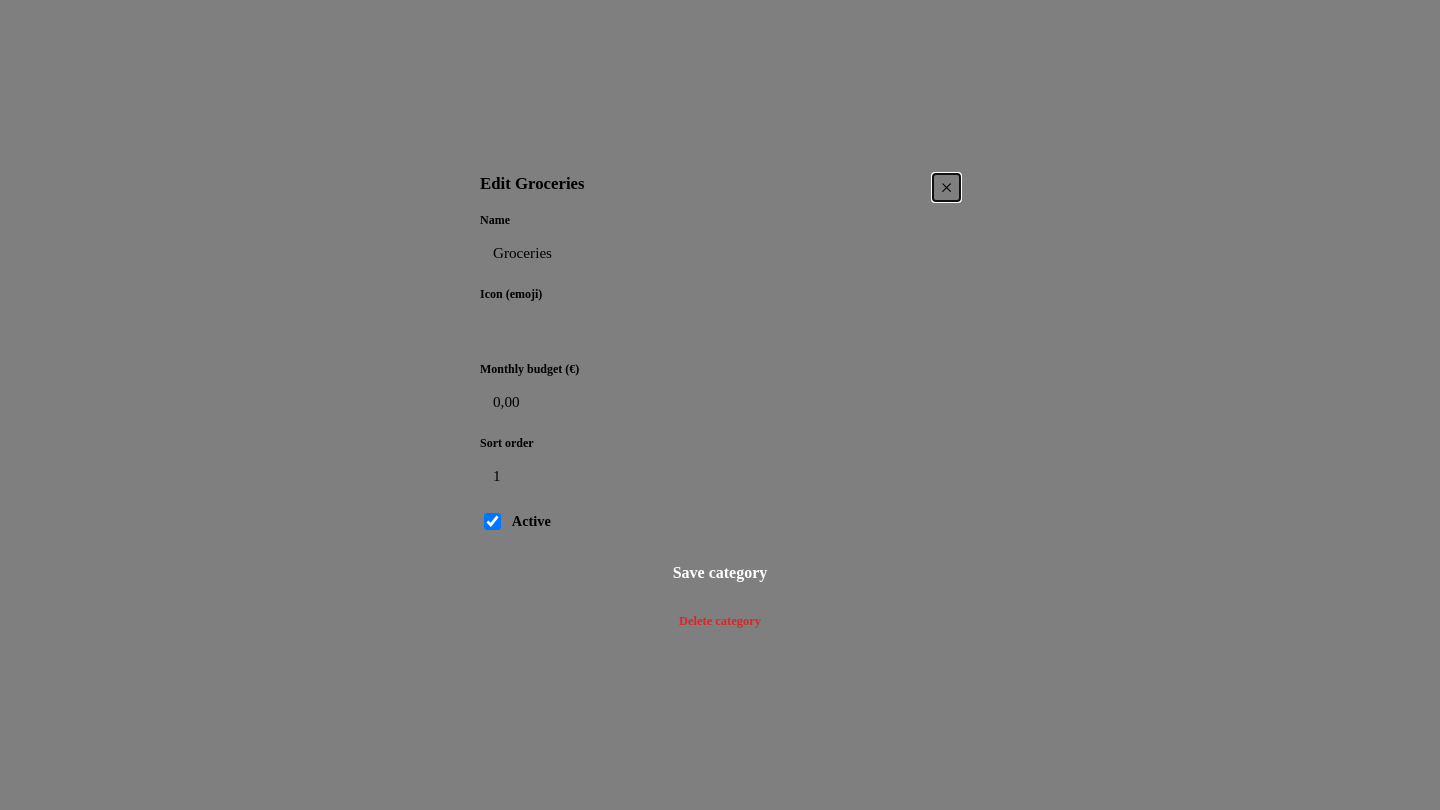
Test: ConfigModal delete control › escalates to the reassign sheet when a plain delete 409s (stale client usage count)
The width and height of the screenshot is (1440, 810).
# Client-side usageCount says 0 (unused), so this opens the plain-delete confirm...
Click the button "Delete category".
click(720, 621)  # box [480, 608, 960, 634]
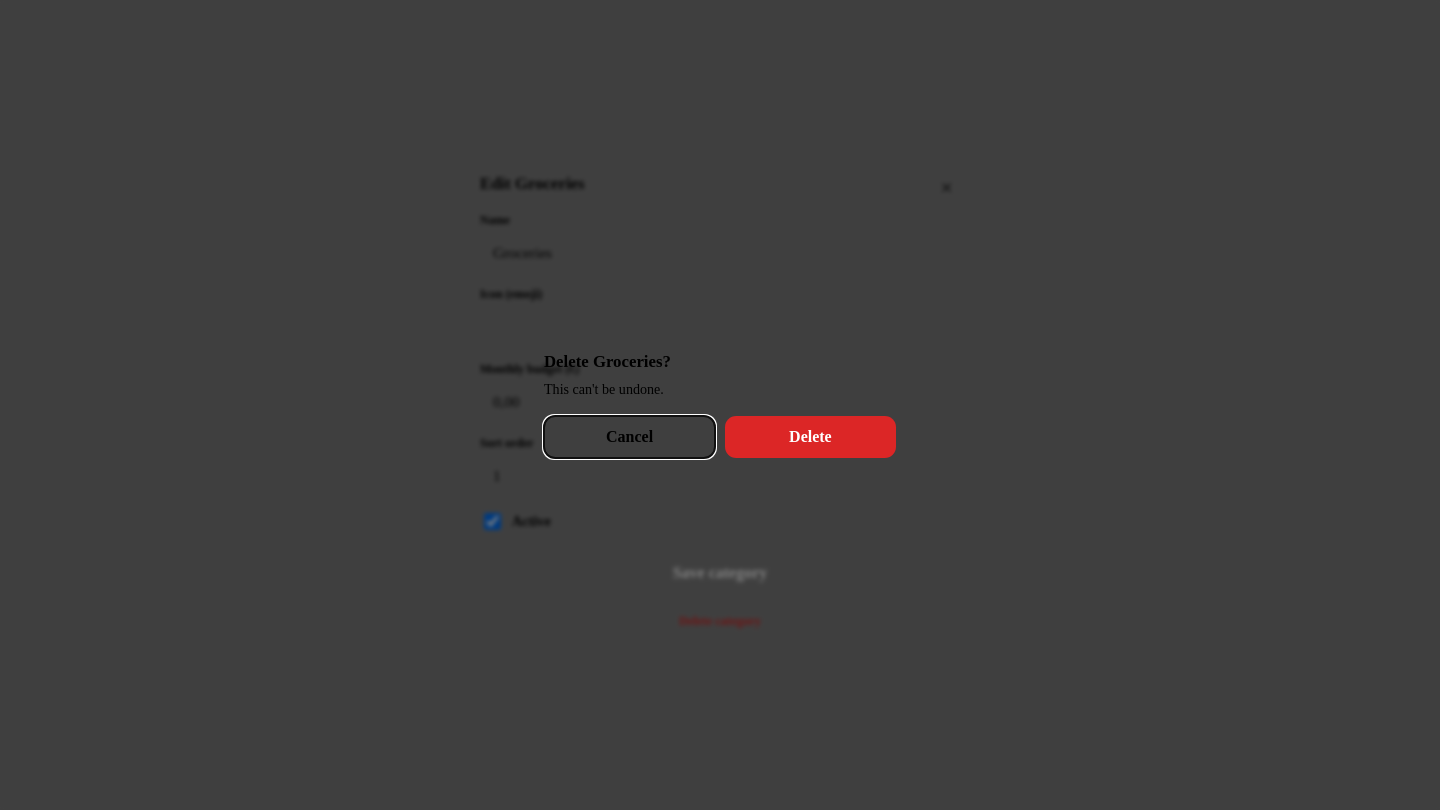
Expected: the text "This can't be undone." is shown, [544, 381, 664, 397]
Click the button "Delete".
click(810, 437)  # box [725, 416, 896, 458]
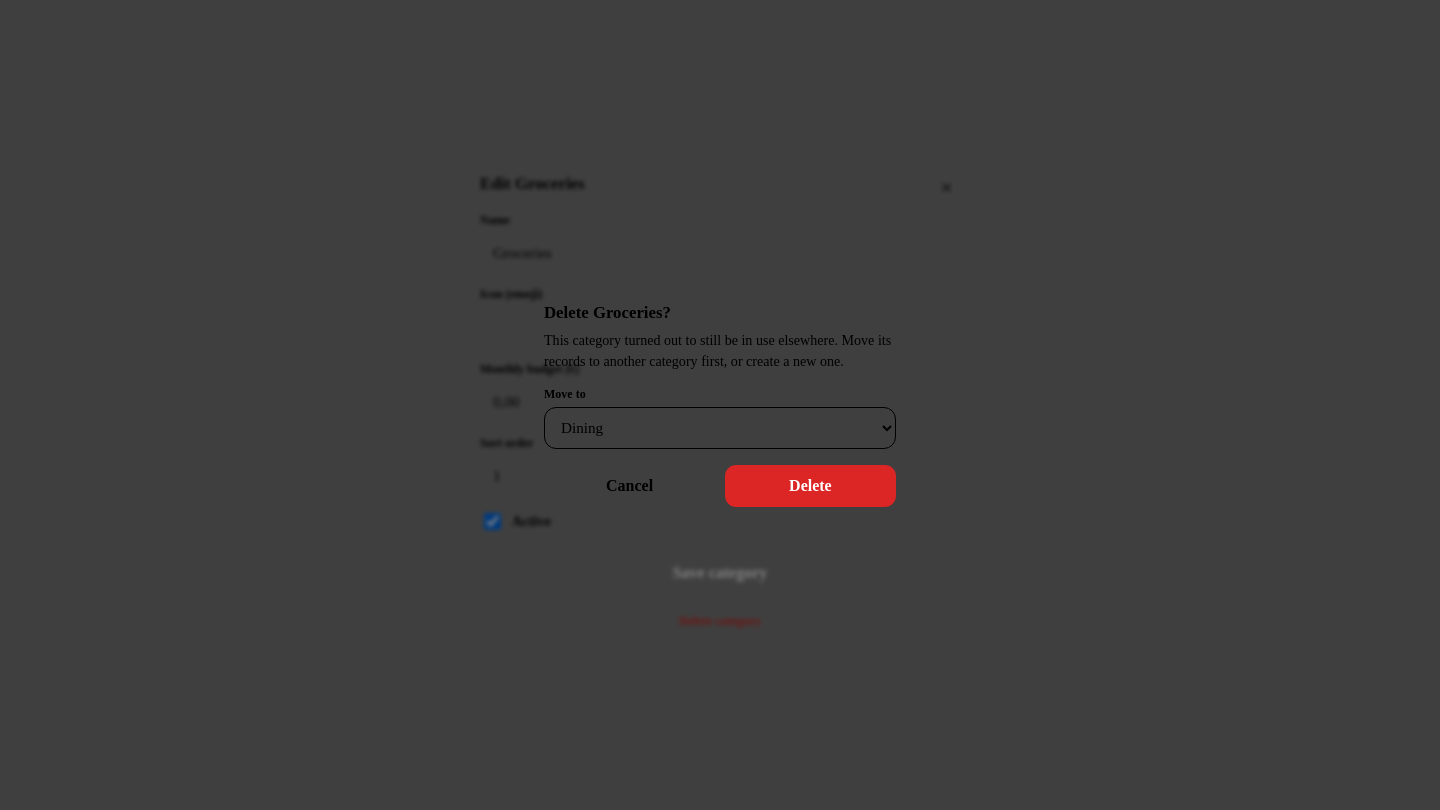
Expected: the dropdown labelled "Move to" is shown, [544, 407, 896, 449]
Expected: the text "This category turned out to still be in use elsewhere. Move its records to another category first, or create a new one." is shown, [544, 332, 891, 369]
